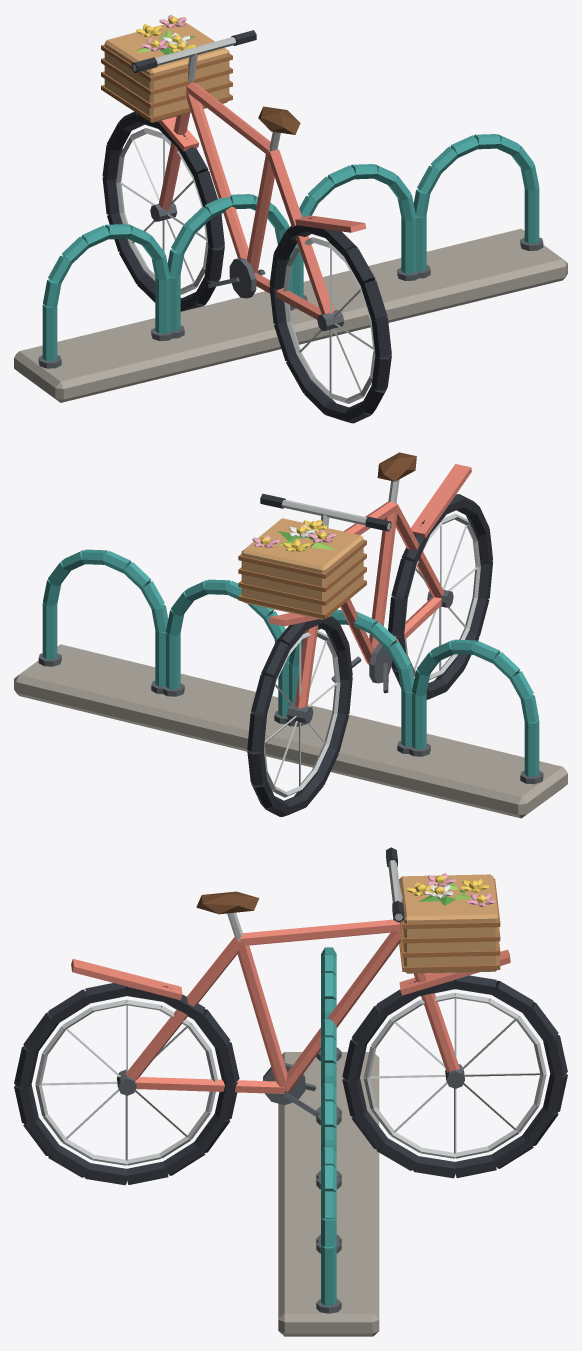
Rendered from bike_rack.glb.
The picture shows the model from 3 angles, top to bottom: view 1: azimuth 30°, elevation 25°; view 2: azimuth 150°, elevation 25°; view 3: azimuth 270°, elevation 25°; orthographic projection. The views are drawn at different scales.
Parts seen in each view (by area): view 1: Bike Rack; view 2: Bike Rack; view 3: Bike Rack.
Boxes of the visible parts, x1,y1,x2,y2 form: Bike Rack: (14, 14, 567, 423); Bike Rack: (14, 452, 567, 818); Bike Rack: (14, 847, 567, 1336).
Size of the model in its own units: 2 by 1.05 by 1.75.
1 material, 1 textured.
